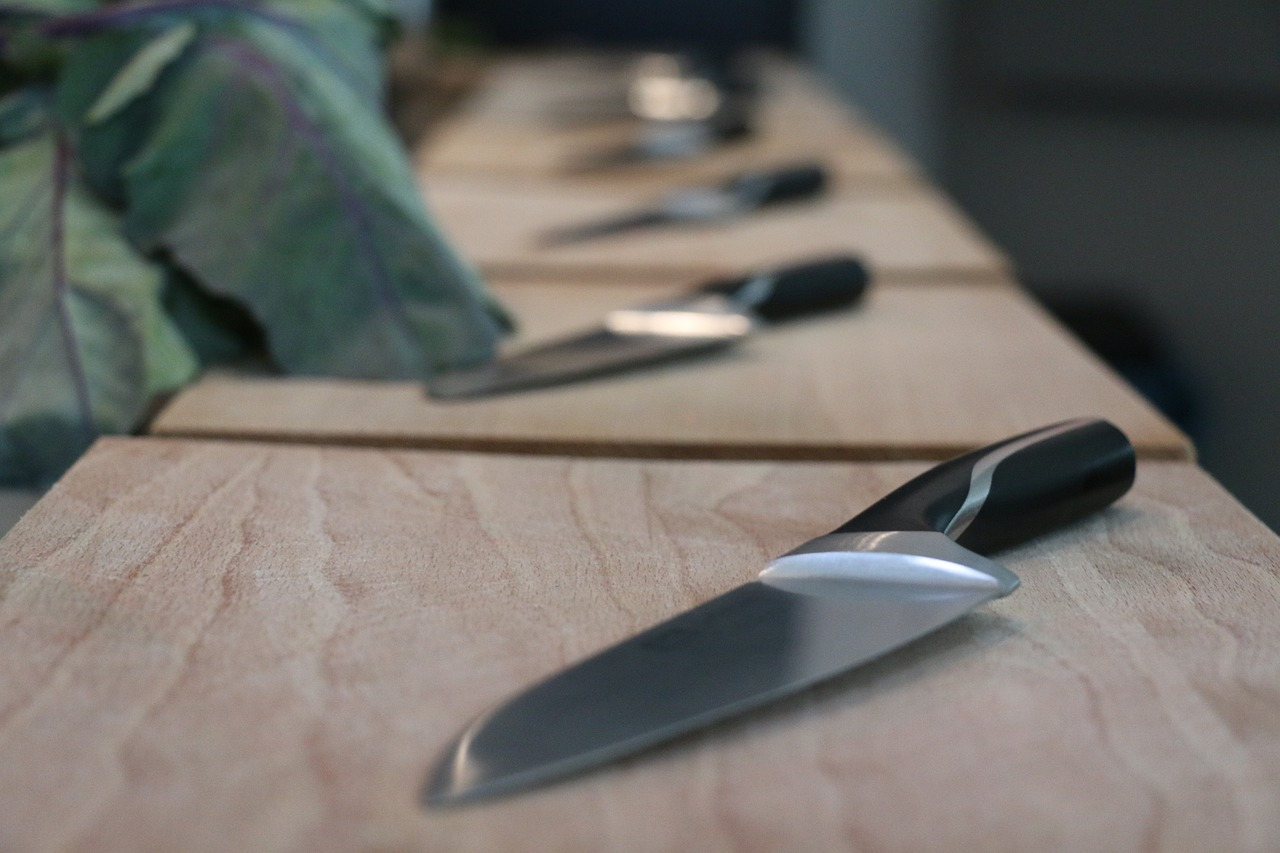knife: (401, 459, 1146, 830), (410, 253, 878, 408), (529, 159, 830, 262), (544, 101, 771, 189)
